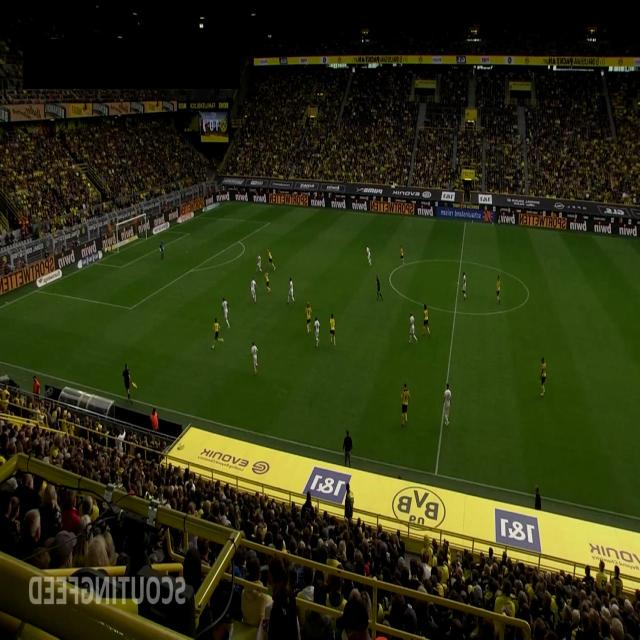goalkeeper: (159, 239, 165, 259)
player: (400, 382, 411, 427), (442, 382, 452, 426), (212, 317, 224, 349), (408, 311, 418, 344), (539, 356, 547, 396), (422, 304, 431, 338), (251, 340, 259, 376), (222, 296, 230, 329), (250, 277, 260, 303), (305, 301, 312, 335), (329, 313, 336, 346), (287, 277, 295, 305), (263, 270, 272, 294), (255, 252, 263, 275), (314, 316, 320, 346), (267, 248, 275, 270), (496, 275, 501, 305), (366, 246, 372, 266), (462, 272, 466, 300), (400, 244, 404, 265)
referee: (122, 363, 138, 404), (375, 274, 383, 302), (497, 207, 501, 226)
